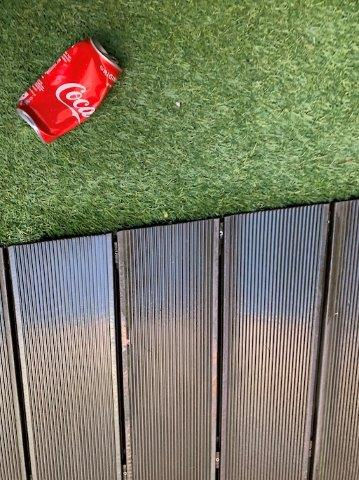kaleng: (20, 39, 121, 140)
